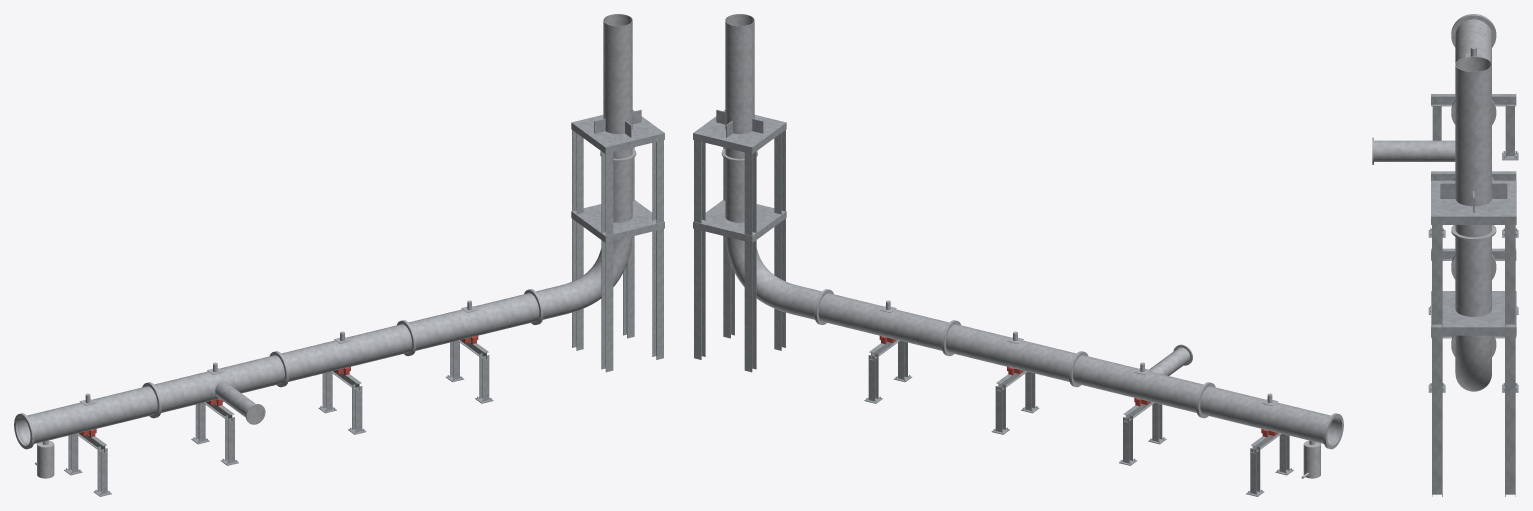
Rendered from flare-header-spools-and-supports.glb.
3 renders of one model, left to right at view 1: azimuth 30°, elevation 25°; view 2: azimuth 150°, elevation 25°; view 3: azimuth 270°, elevation 25°, orthographic. The views are drawn at different scales.
Visible parts, largest first — view 1: HeaderSpools, AnchorFrame, BendsTees&Riser, SupportTrestles; view 2: HeaderSpools, AnchorFrame, BendsTees&Riser, SupportTrestles; view 3: BendsTees&Riser, AnchorFrame, SupportTrestles, HeaderSpools.
Boxes of the visible parts, x1,y1,x2,y2 form: HeaderSpools: (14, 289, 543, 449); AnchorFrame: (571, 110, 664, 372); BendsTees&Riser: (215, 14, 636, 424); SupportTrestles: (64, 340, 493, 496); HeaderSpools: (814, 289, 1343, 449); AnchorFrame: (693, 110, 786, 372); BendsTees&Riser: (721, 14, 1192, 375); SupportTrestles: (864, 340, 1293, 496); BendsTees&Riser: (1372, 56, 1496, 391); AnchorFrame: (1431, 180, 1516, 496); SupportTrestles: (1428, 94, 1518, 392); HeaderSpools: (1451, 14, 1496, 356).
Size of the model in its own units: 29.46 by 15.01 by 4.8.
4 materials, 4 textured.
